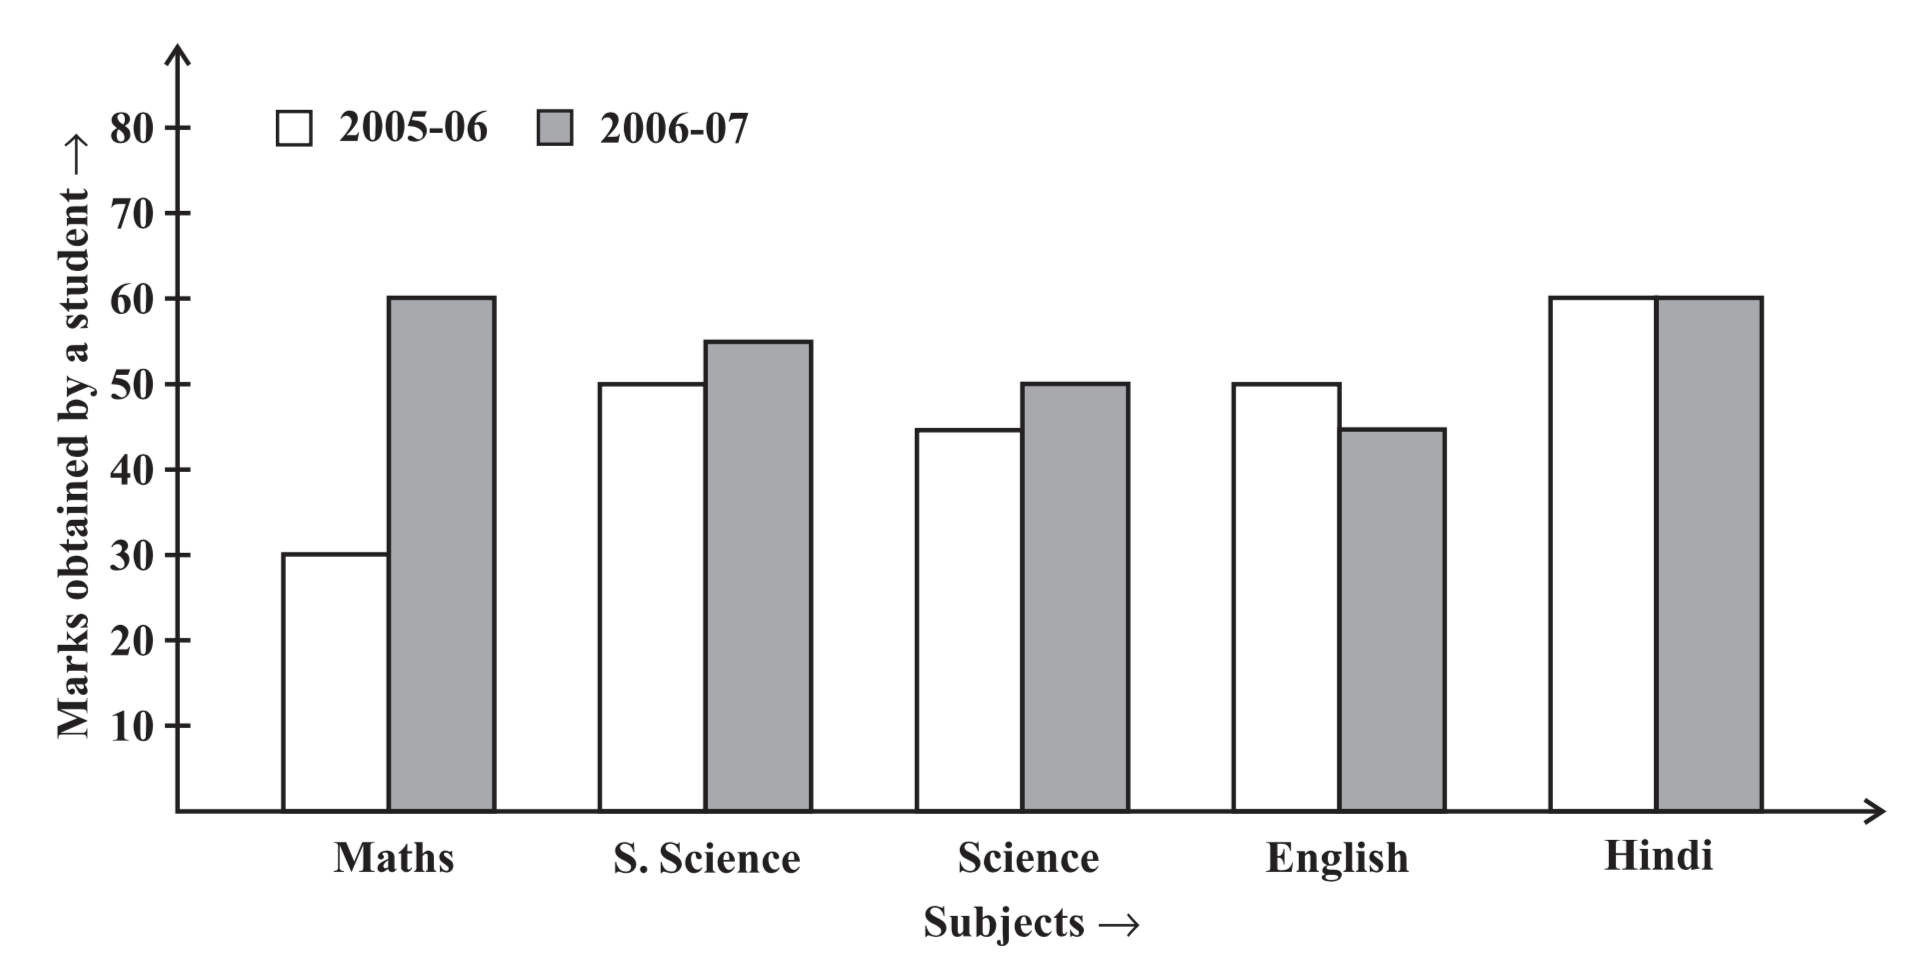canvas: (251, 282, 1777, 818)
legend: (267, 98, 763, 152)
x-axis: (167, 796, 1907, 833)
x-labels: (323, 833, 1739, 890)
x-title: (912, 899, 1093, 950)
y-axis: (153, 36, 207, 829)
y-labels: (105, 94, 163, 747)
y-title: (53, 177, 98, 748)
